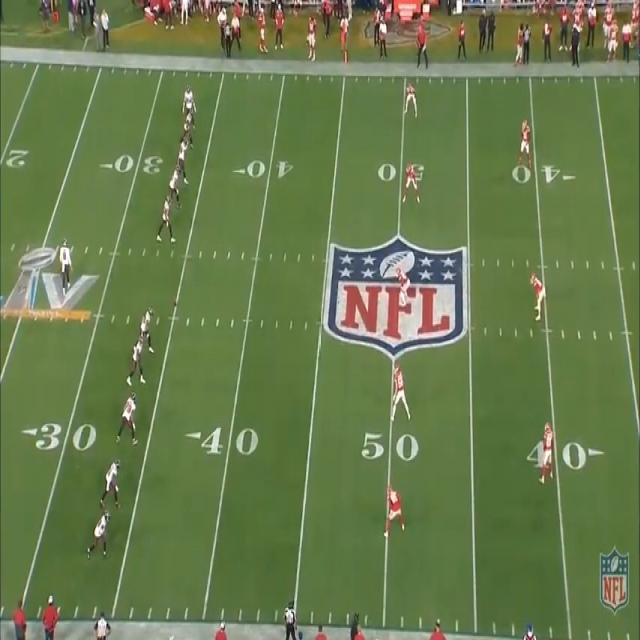football: (171, 295, 181, 310)
players: (382, 481, 411, 545), (387, 364, 414, 428), (536, 418, 559, 488), (116, 393, 143, 450), (151, 198, 180, 249), (98, 458, 124, 514), (53, 236, 75, 302), (86, 509, 111, 565), (528, 272, 548, 331), (125, 338, 148, 388), (400, 75, 423, 122), (136, 303, 156, 357), (178, 81, 198, 132), (162, 168, 185, 211), (174, 138, 192, 191), (518, 120, 535, 169), (404, 162, 422, 208), (180, 108, 195, 151)
